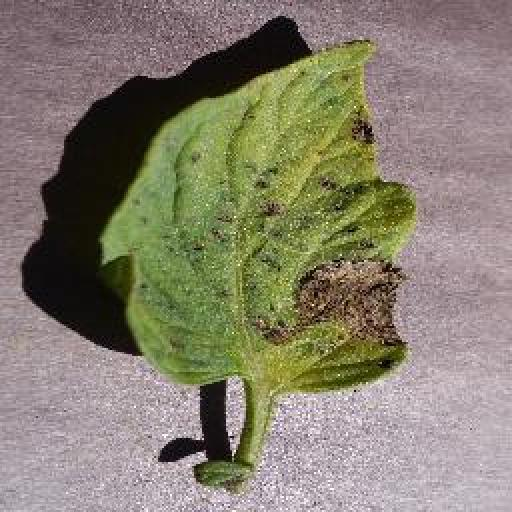Early Blight: (94, 36, 424, 397)
